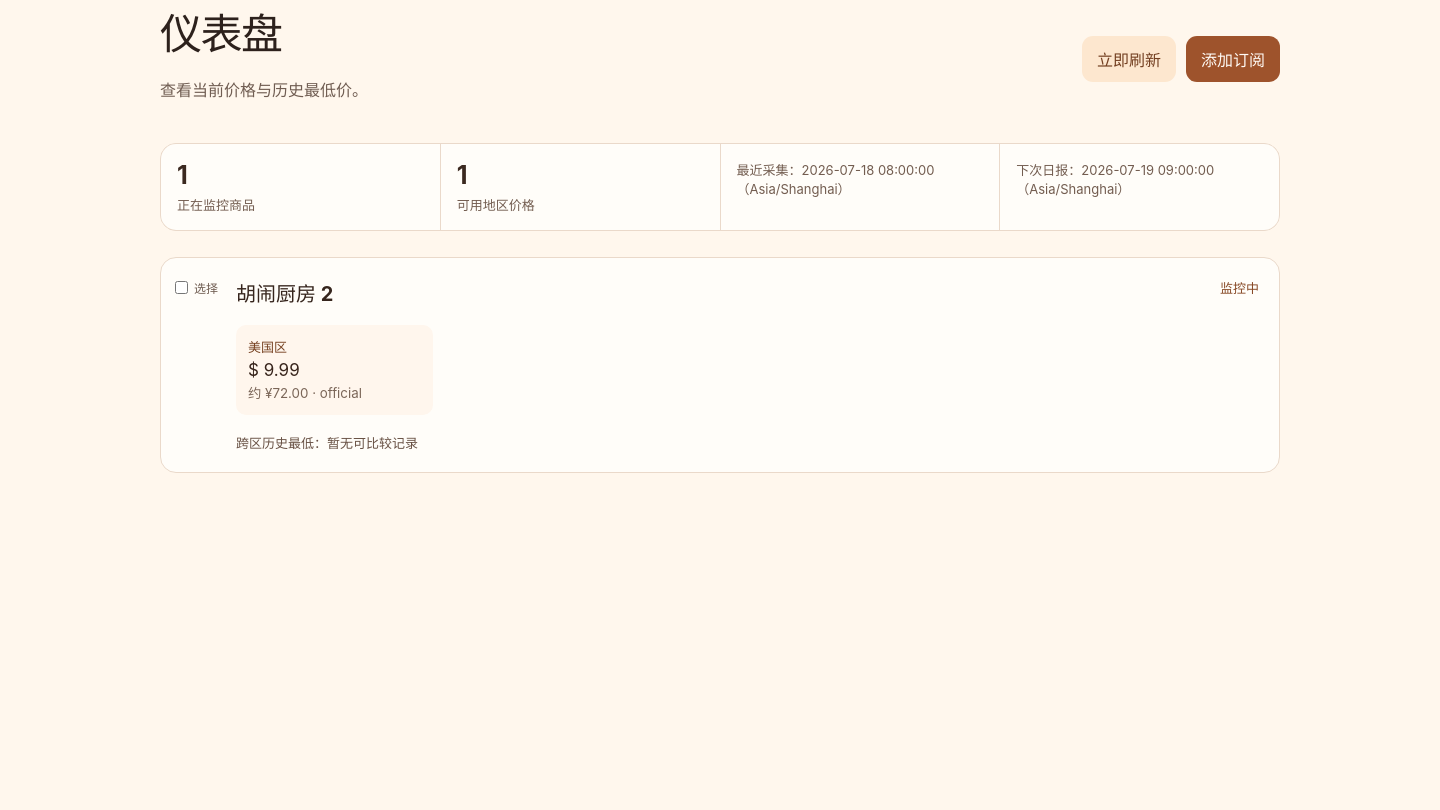
仪表盘订阅硬删除 › sends deletion only after confirmation and then re-reads the dashboard
Click the checkbox named "选择 胡闹厨房 2" at coordinates (182, 288), box [175,281,188,294]
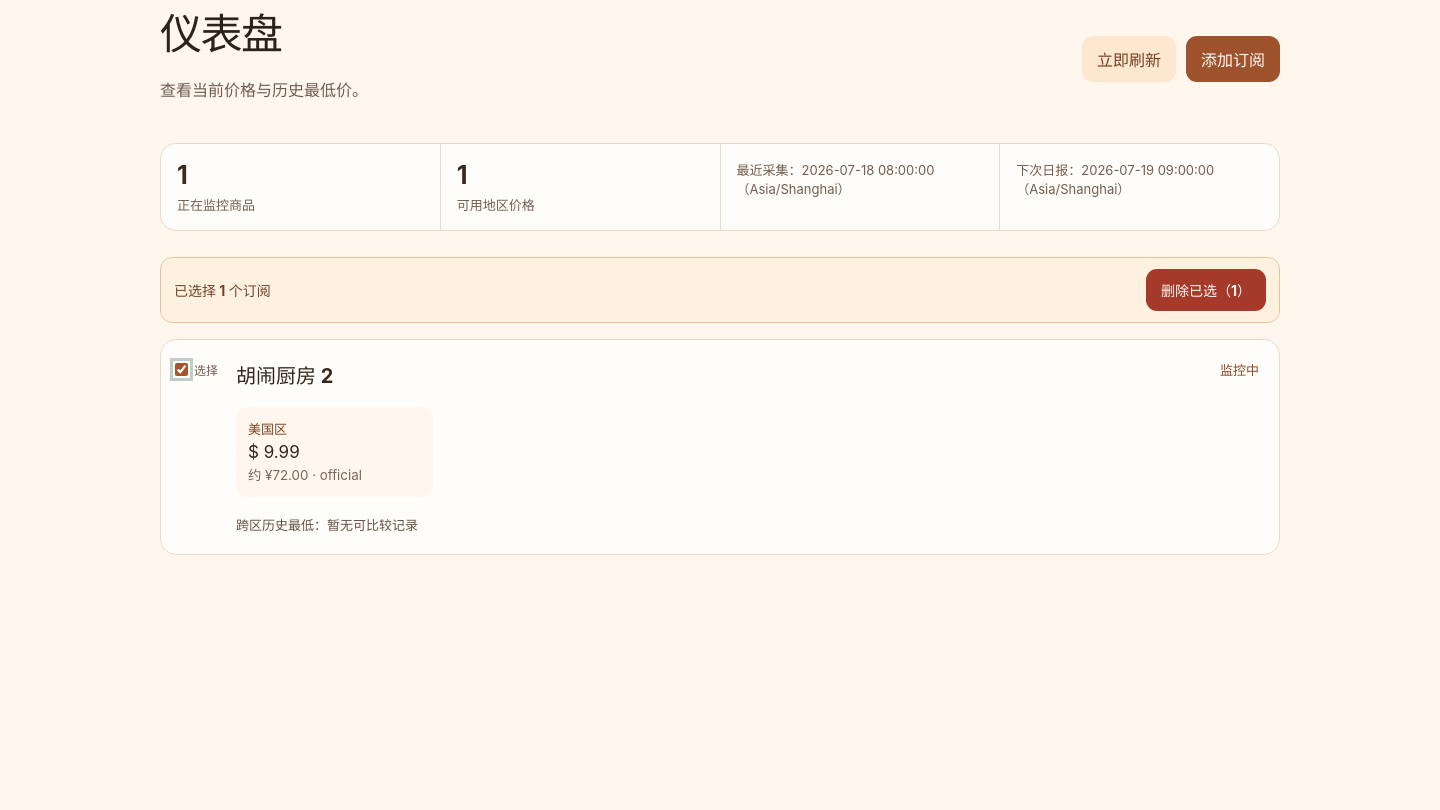
Click the button "删除已选（1）" at coordinates (1206, 290), box [1146,269,1266,311]
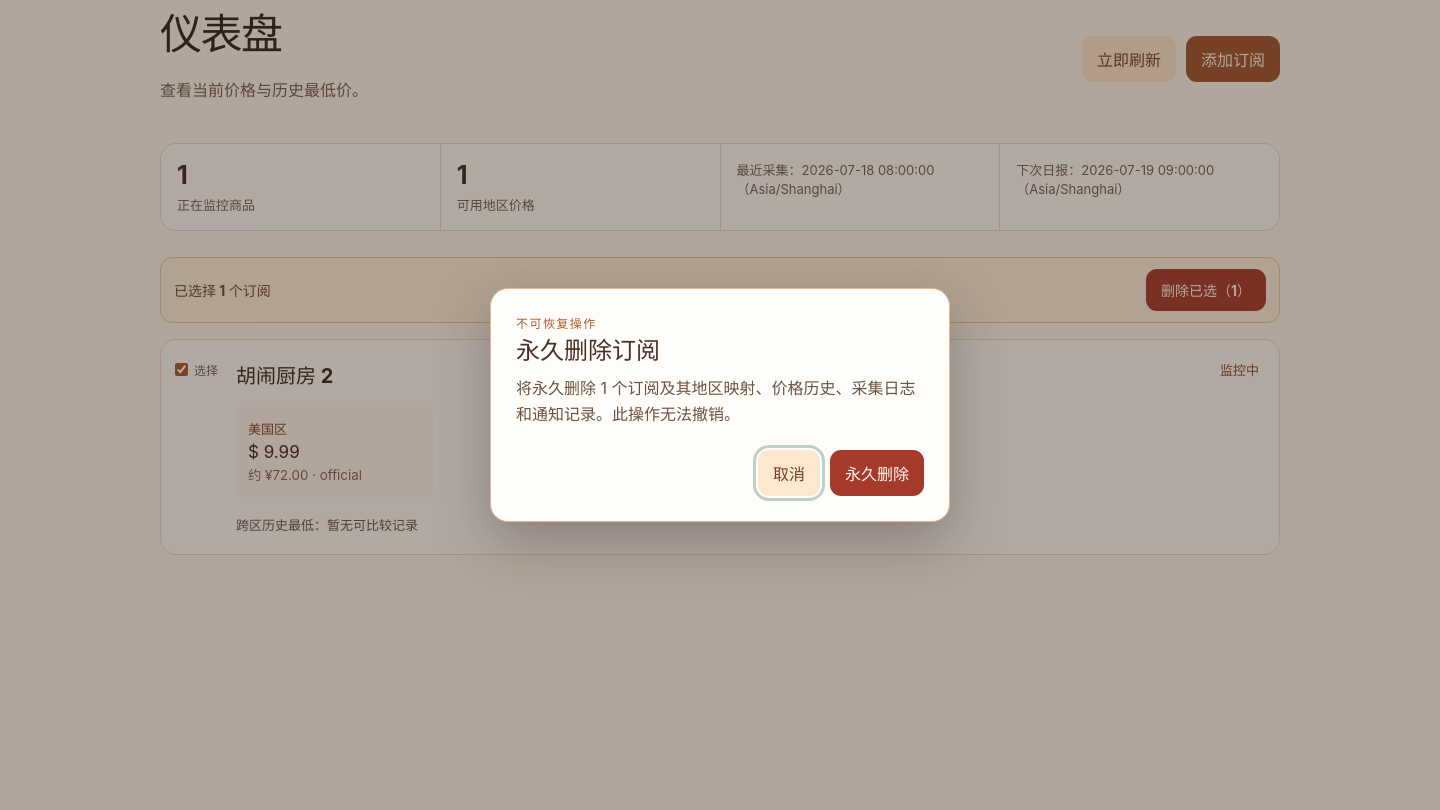
Expected: the dialog "永久删除订阅" is shown, [490,288,950,522]
Click the button "永久删除" at coordinates (877, 473), box [830,450,924,496]
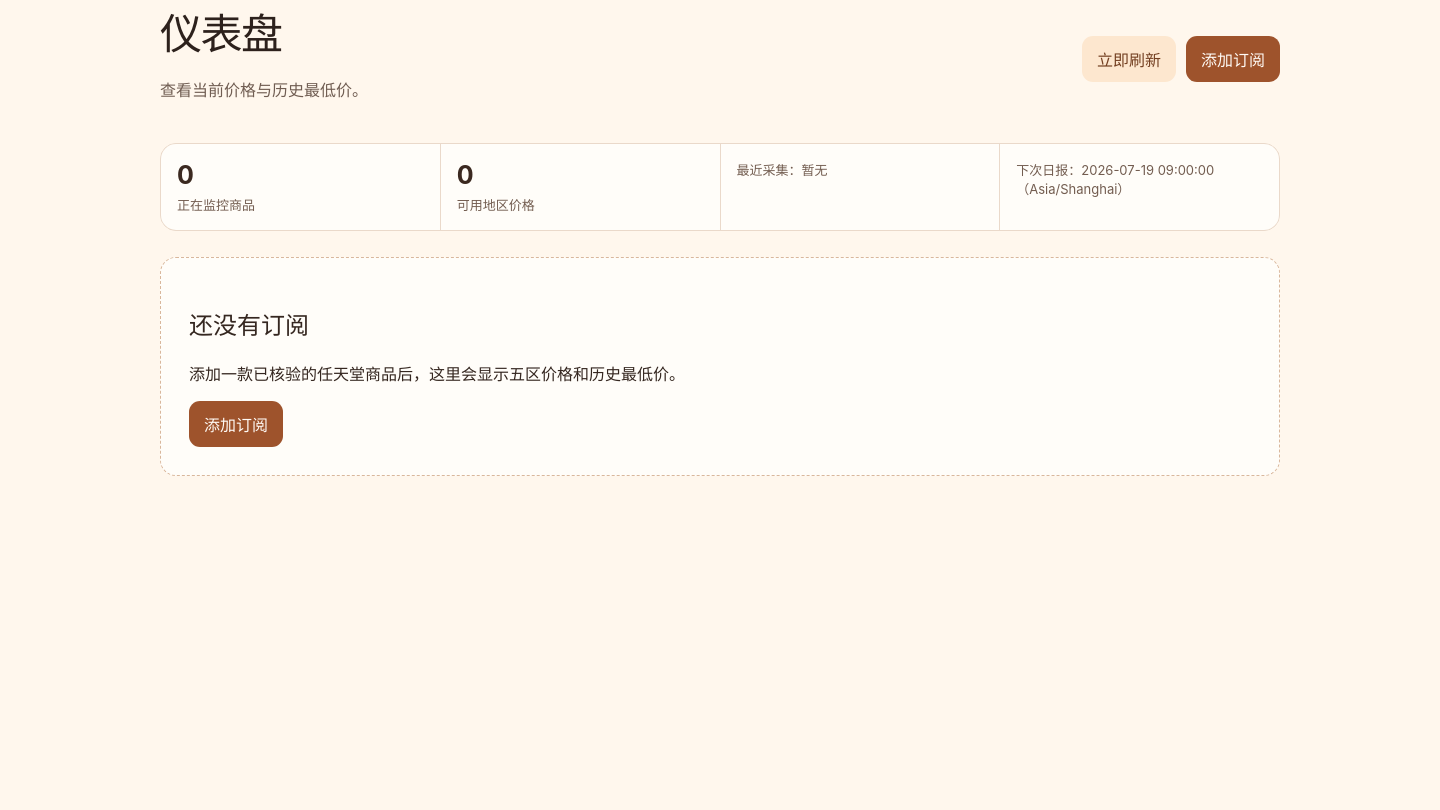
Expected: the heading "还没有订阅" is shown, [189,311,309,340]
